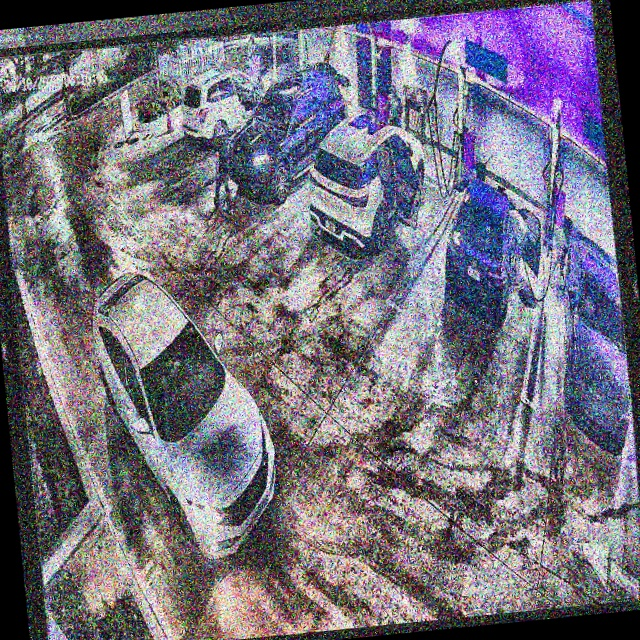Car: (88, 258, 286, 573), (301, 107, 439, 258), (218, 61, 358, 208), (437, 172, 548, 327), (173, 60, 285, 154)
